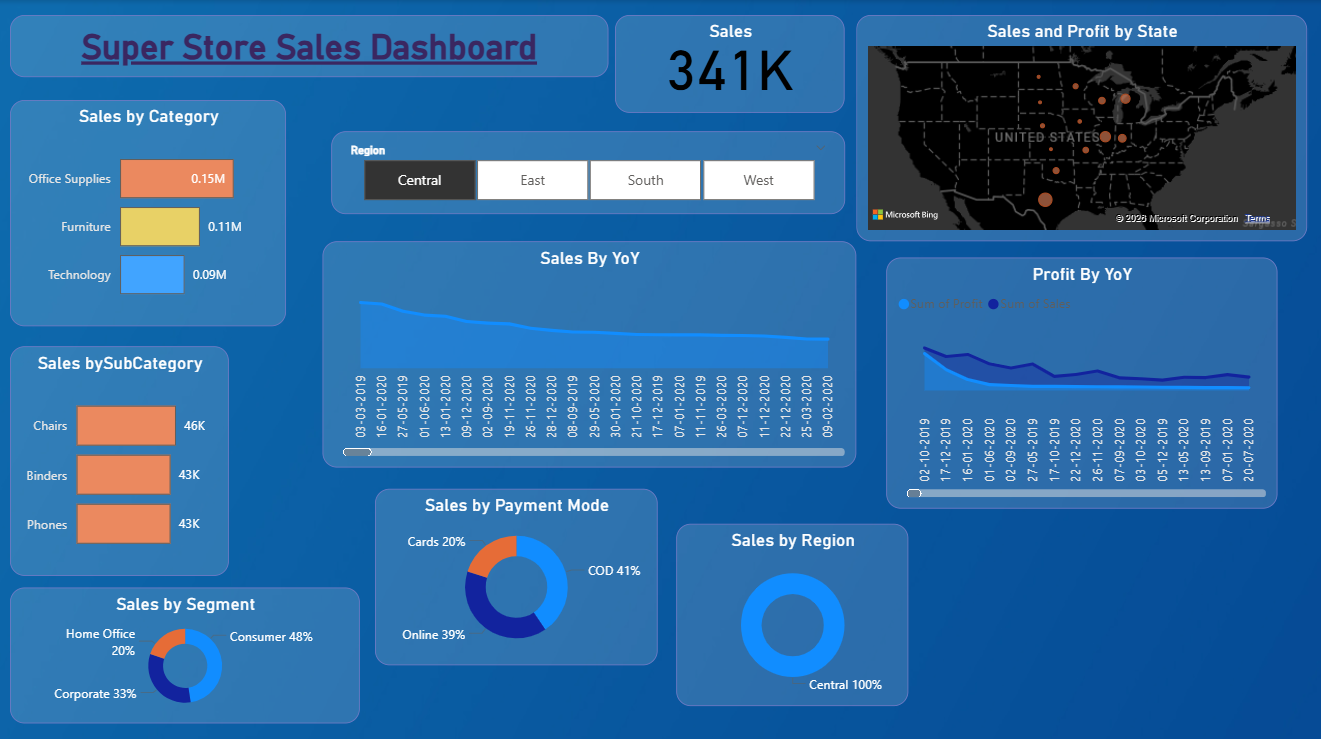

This screenshot's page, from the dashboard's own definition file:
{"tool":"powerbi","page":{"name":"Page 1","canvas":[1280,720],"ordinal":0},"visuals":[{"type":"clusteredBarChart","title":"Sales by Category","fields":{"Category":["SuperStore_Sales_Dataset.Category"],"Y":["Sum(SuperStore_Sales_Dataset.Sales)"]},"box":[14.5,96.5,266.6,218.4],"z":0},{"type":"clusteredBarChart","title":"Sales bySubCategory","fields":{"Category":["SuperStore_Sales_Dataset.Sub-Category"],"Y":["Sum(SuperStore_Sales_Dataset.Sales)"]},"box":[14.5,334.2,211.1,222],"z":1000},{"type":"slicer","title":"Sales by Ship Mode","fields":{"Values":["SuperStore_Sales_Dataset.Region"]},"box":[324.5,126.7,495.8,79.6],"z":2000},{"type":"stackedAreaChart","title":"Sales By YoY","fields":{"Category":["SuperStore_Sales_Dataset.Order Date"],"Y":["Sum(SuperStore_Sales_Dataset.Sales)"]},"box":[316.1,232.8,515.2,218.4],"z":3000},{"type":"stackedAreaChart","title":"Profit By YoY","fields":{"Category":["SuperStore_Sales_Dataset.Order Date"],"Y":["Sum(SuperStore_Sales_Dataset.Profit)","Sum(SuperStore_Sales_Dataset.Sales)"]},"box":[860.2,248.5,377.6,242.5],"z":4000},{"type":"map","title":"Sales and Profit by State","fields":{"Category":["SuperStore_Sales_Dataset.State"],"Size":["Sum(SuperStore_Sales_Dataset.Sales)"]},"box":[831.2,14.5,435.5,218.4],"z":5000},{"type":"donutChart","title":"Sales by Segment","fields":{"Category":["SuperStore_Sales_Dataset.Segment"],"Y":["Sum(SuperStore_Sales_Dataset.Sales)"]},"box":[14.5,567,337.8,131.5],"z":6000},{"type":"donutChart","title":"Sales by Payment Mode","fields":{"Category":["SuperStore_Sales_Dataset.Payment Mode"],"Y":["Sum(SuperStore_Sales_Dataset.Sales)"]},"box":[366.8,471.7,272.7,170.1],"z":7000},{"type":"donutChart","title":"Sales by Region","fields":{"Category":["SuperStore_Sales_Dataset.Region"],"Y":["Sum(SuperStore_Sales_Dataset.Sales)"]},"box":[657.5,505.5,224.4,176.1],"z":8000},{"type":"textbox","box":[14.5,14.5,577.9,60.3],"z":9000},{"type":"card","title":"Sales","fields":{"Values":["Sum(SuperStore_Sales_Dataset.Sales)"]},"box":[598.4,14.5,222,94.1],"z":10000}]}

Visuals, with their boxes in screenshot pixels (x1, y1, x2, y2), scaled from the page's 1280x720 canvas onto the 1321x739 screenshot:
"Sales by Category" clusteredBarChart: pyautogui.locateOnScreen(15, 99, 290, 323)
"Sales bySubCategory" clusteredBarChart: pyautogui.locateOnScreen(15, 343, 233, 571)
"Sales by Ship Mode" slicer: pyautogui.locateOnScreen(335, 130, 847, 212)
"Sales By YoY" stackedAreaChart: pyautogui.locateOnScreen(326, 239, 858, 463)
"Profit By YoY" stackedAreaChart: pyautogui.locateOnScreen(888, 255, 1277, 504)
"Sales and Profit by State" map: pyautogui.locateOnScreen(858, 15, 1307, 239)
"Sales by Segment" donutChart: pyautogui.locateOnScreen(15, 582, 364, 717)
"Sales by Payment Mode" donutChart: pyautogui.locateOnScreen(379, 484, 660, 659)
"Sales by Region" donutChart: pyautogui.locateOnScreen(679, 519, 910, 700)
textbox: pyautogui.locateOnScreen(15, 15, 611, 77)
"Sales" card: pyautogui.locateOnScreen(618, 15, 847, 111)
